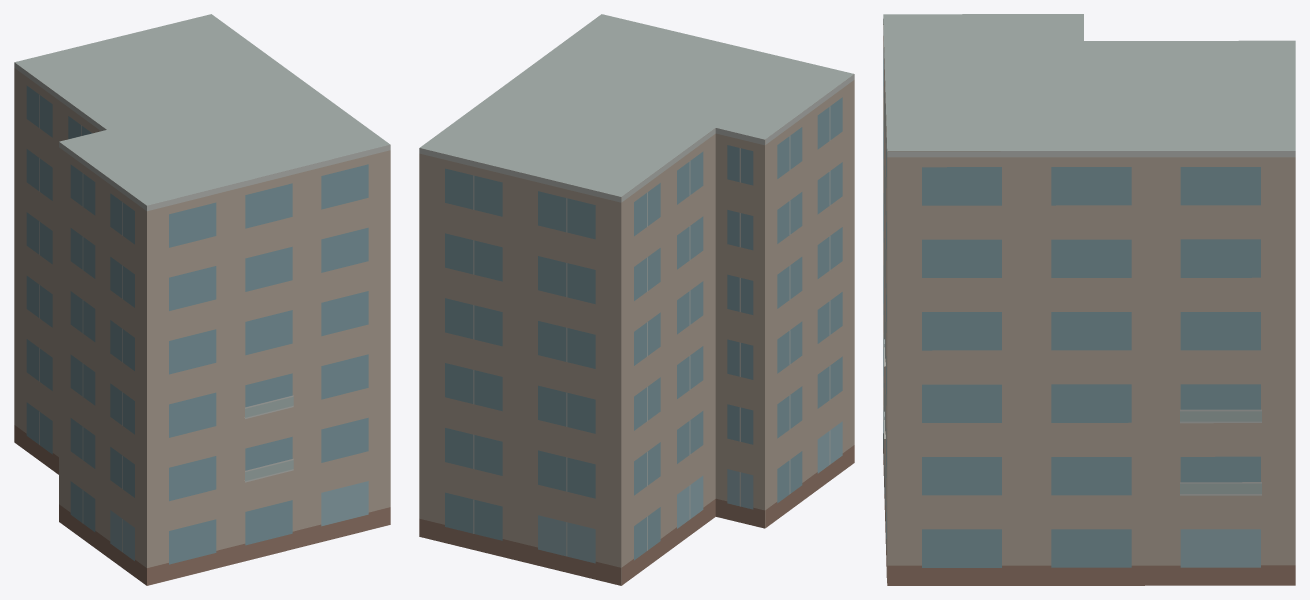
File: survey-upis-32881114.glb
3 views of the same model, side by side, from view 1: azimuth 30°, elevation 25°; view 2: azimuth 150°, elevation 25°; view 3: azimuth 270°, elevation 25° (orthographic). The views are drawn at different scales.
Visible parts, largest first — view 1: survey-upis-32881114.tmp; view 2: survey-upis-32881114.tmp; view 3: survey-upis-32881114.tmp.
Boxes of the visible parts, x1=… form: survey-upis-32881114.tmp: x1=14, y1=14, x2=390, y2=585; survey-upis-32881114.tmp: x1=419, y1=14, x2=854, y2=585; survey-upis-32881114.tmp: x1=883, y1=14, x2=1295, y2=585.
Bounding box in the file's own units: 11.32 × 16.7 × 14.38.
